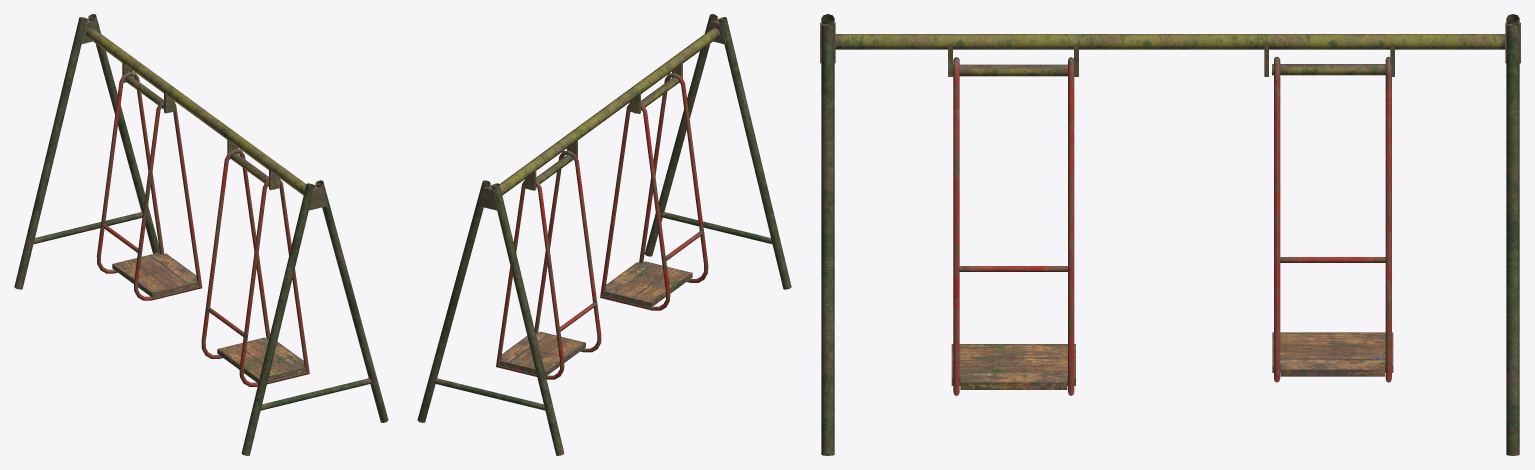
File: playground 1,1.fbx
The picture shows the model from 3 angles, left to right: view 1: azimuth 30°, elevation 25°; view 2: azimuth 150°, elevation 25°; view 3: azimuth 270°, elevation 25°; orthographic projection. The views are drawn at different scales.
Parts seen in each view (by area): view 1: taman 1_LOD0; view 2: taman 1_LOD0; view 3: taman 1_LOD0.
Part boxes in pixels (left/top/right/bottom): taman 1_LOD0: left=14, top=14, right=388, bottom=455; taman 1_LOD0: left=417, top=14, right=791, bottom=455; taman 1_LOD0: left=820, top=14, right=1520, bottom=455.
Size of what is drawn, in the model's own units: 76.41 by 128 by 211.
